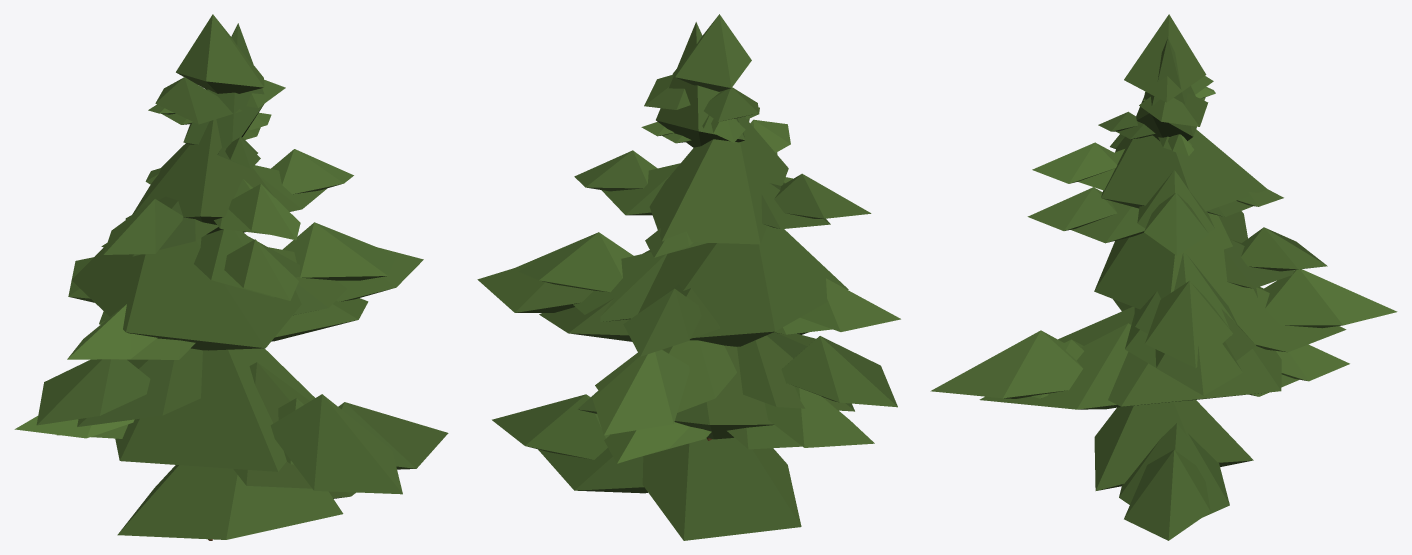
File: pine-03-far.glb
3 views of the same model, side by side, from view 1: azimuth 30°, elevation 25°; view 2: azimuth 150°, elevation 25°; view 3: azimuth 270°, elevation 25° (orthographic). The views are drawn at different scales.
Parts seen in each view (by area): view 1: pine-03-far; view 2: pine-03-far; view 3: pine-03-far.
Part boxes in pixels (left/top/right/bottom): pine-03-far: left=14, top=14, right=448, bottom=540; pine-03-far: left=477, top=14, right=900, bottom=540; pine-03-far: left=930, top=14, right=1397, bottom=540.
Size of the model in its own units: 3.39 by 4 by 3.71.
